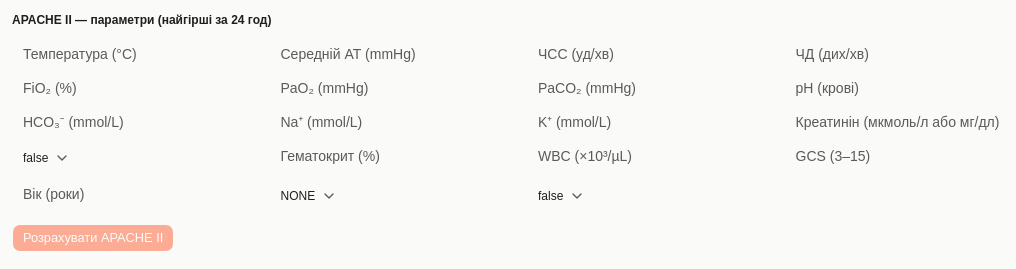
Scenario: ApacheIiForm › button is enabled when at least one field is filled
Type "38.5" into the field with placeholder "Температура (°C)". click: (138, 54)
box: x1=12 y1=40 x2=264 y2=68
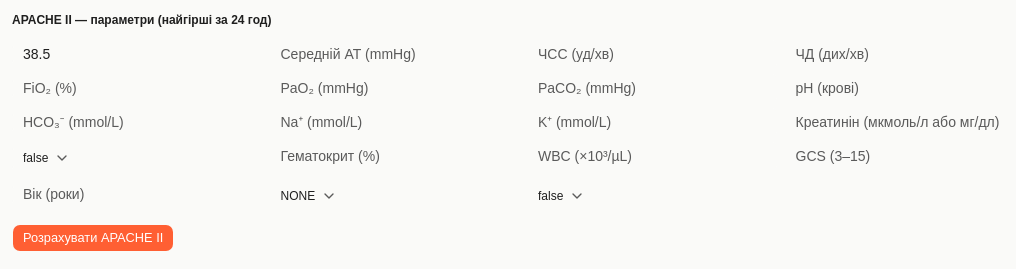
expect the button "Розрахувати APACHE II" is enabled: met, box x1=12 y1=224 x2=174 y2=252
